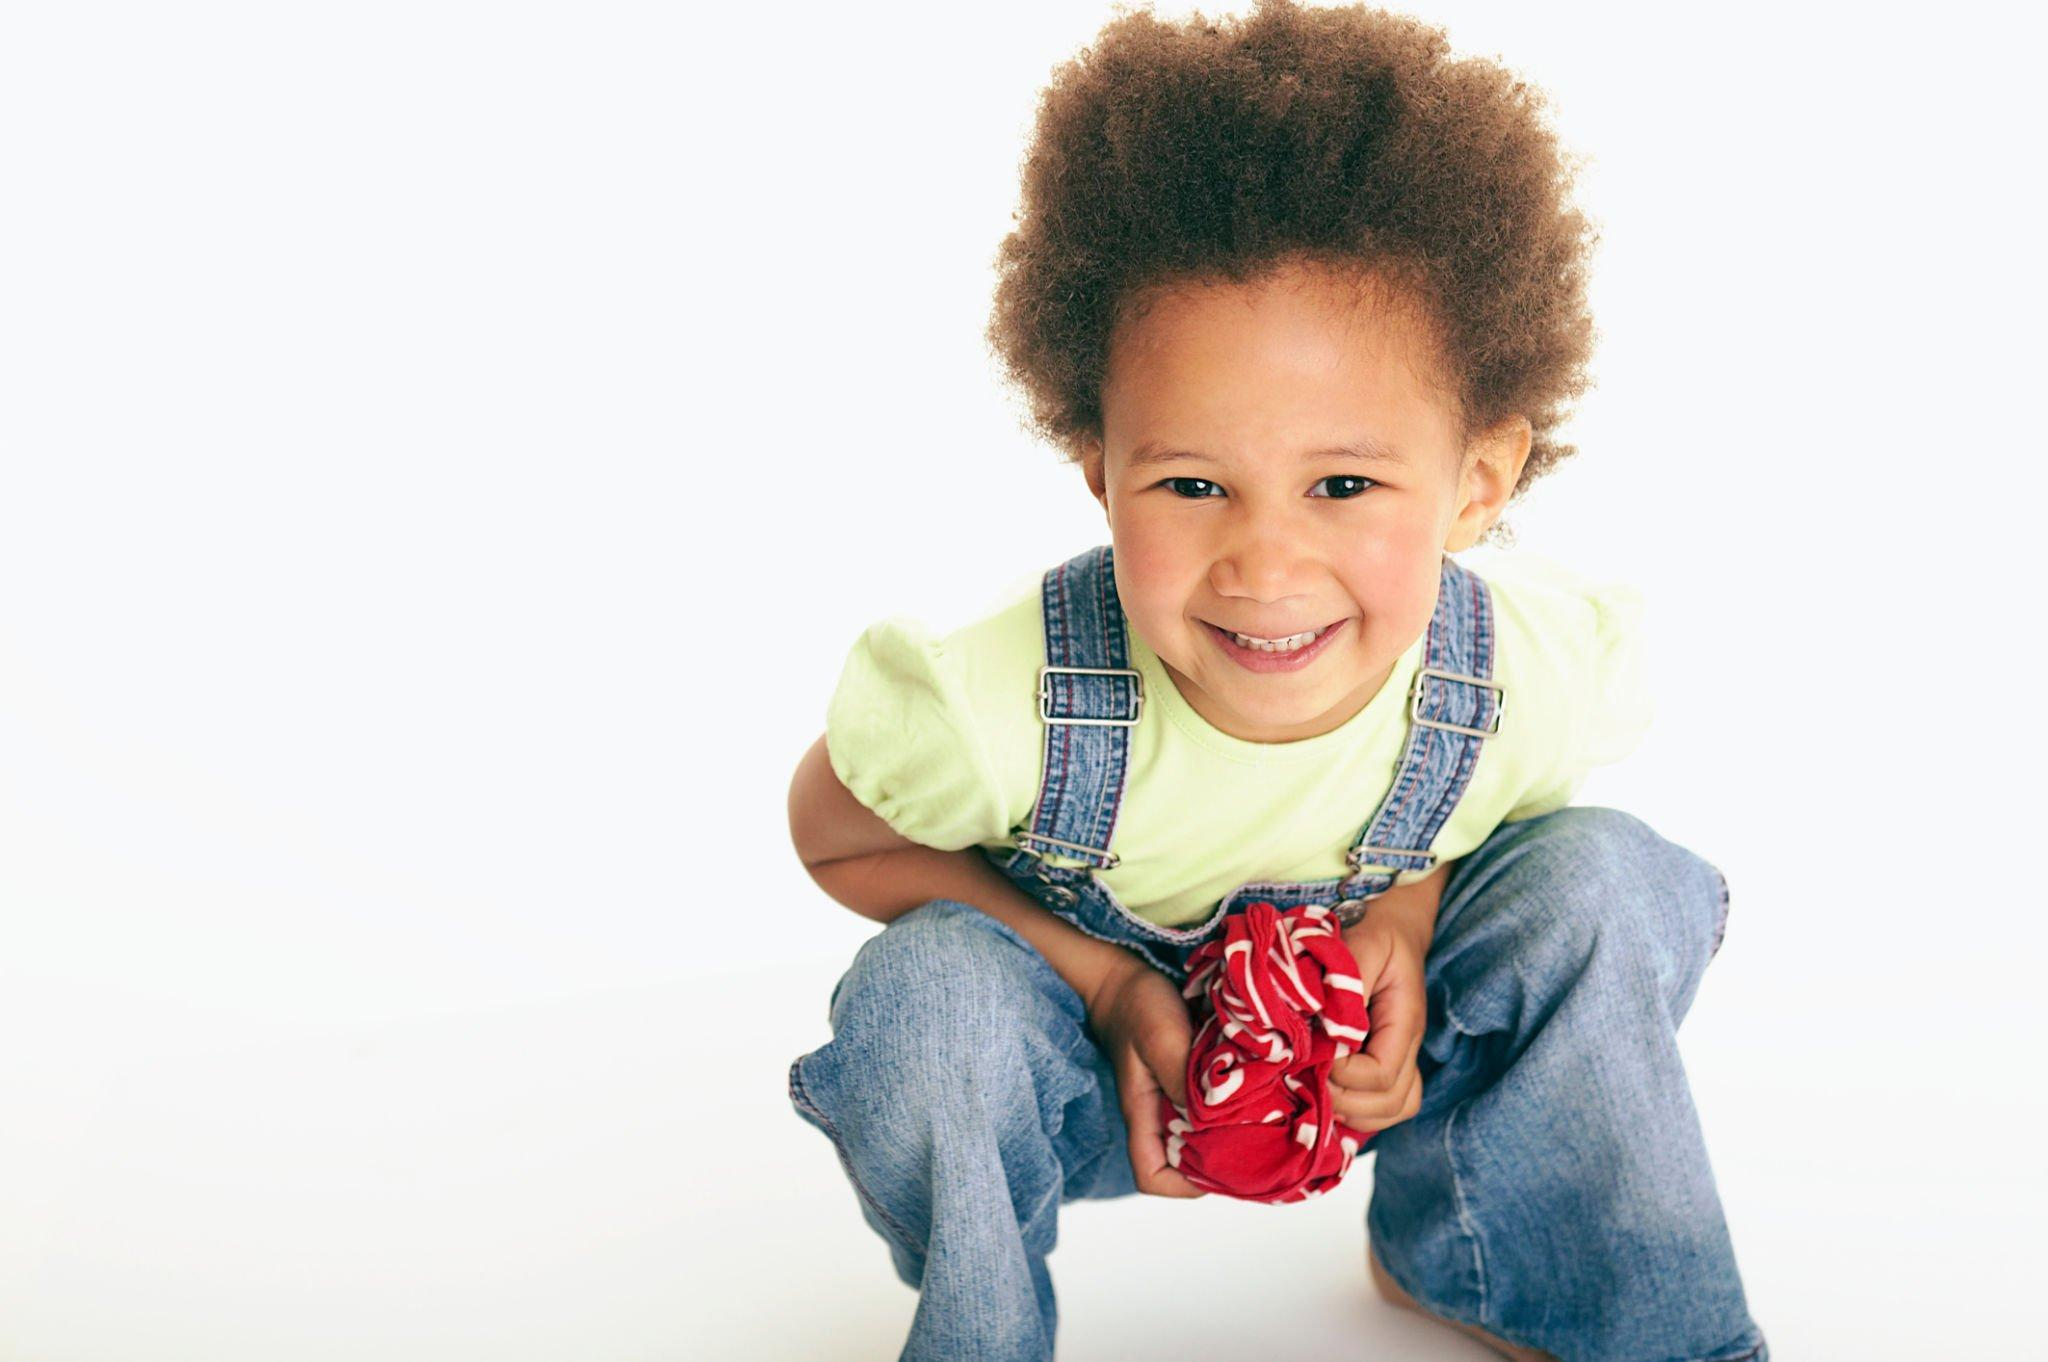Healthy: (1057, 226, 1539, 759)
